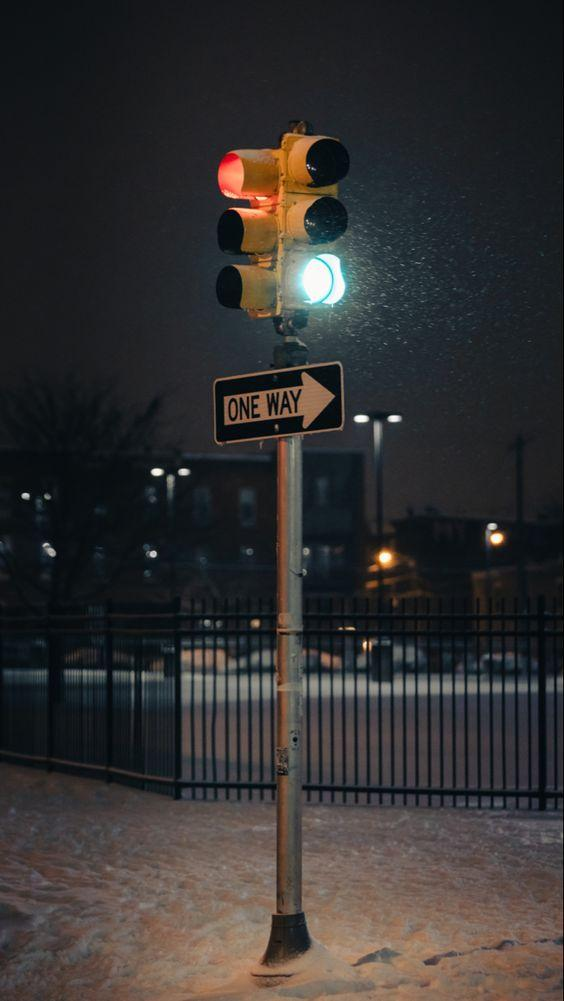Traffic light green: (272, 122, 362, 325)
